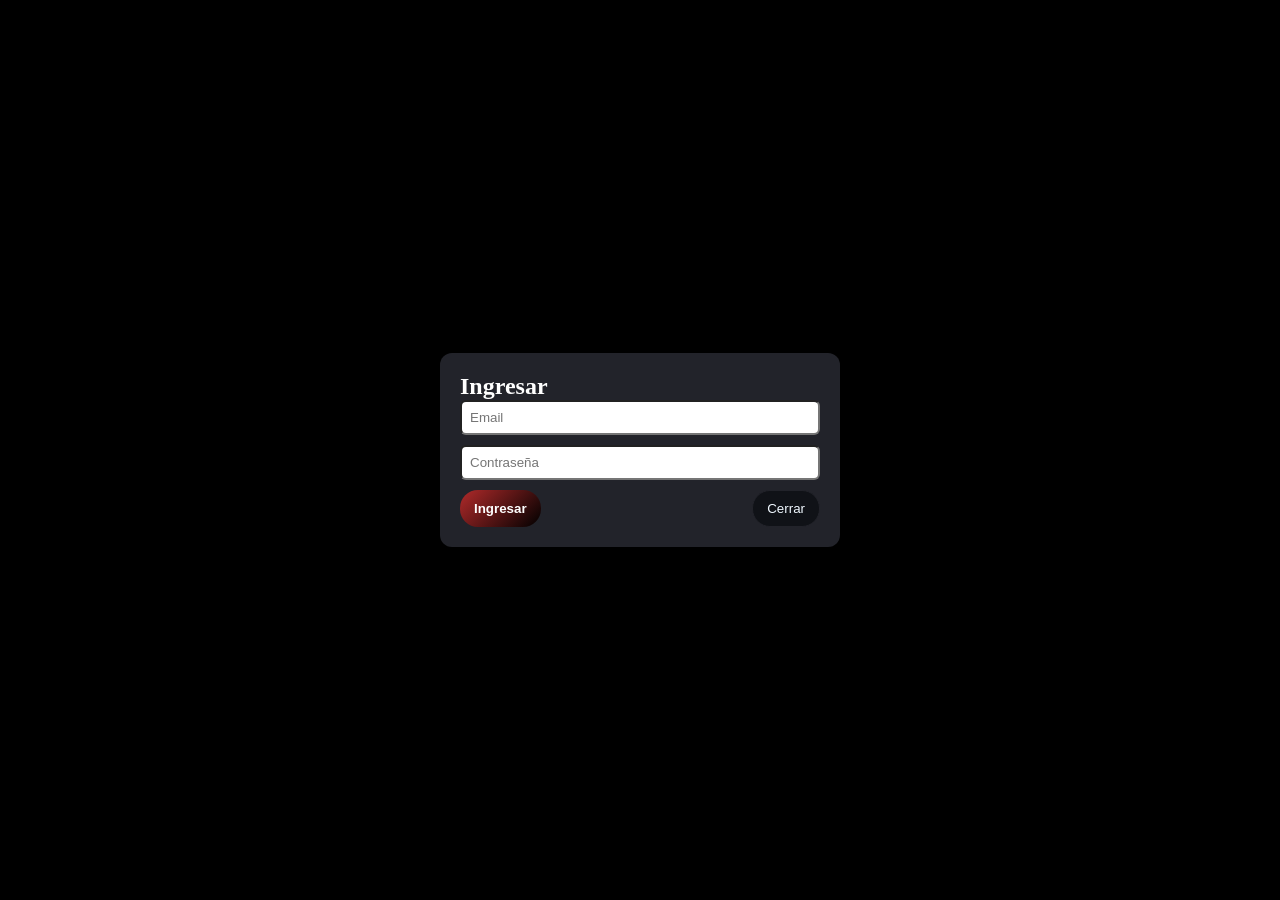
Login component › muestra mensaje de error si usuario/contraseña son incorrectos
In the field with placeholder "Email": (640, 418) [460,400,820,435], type "wrong@example.com"
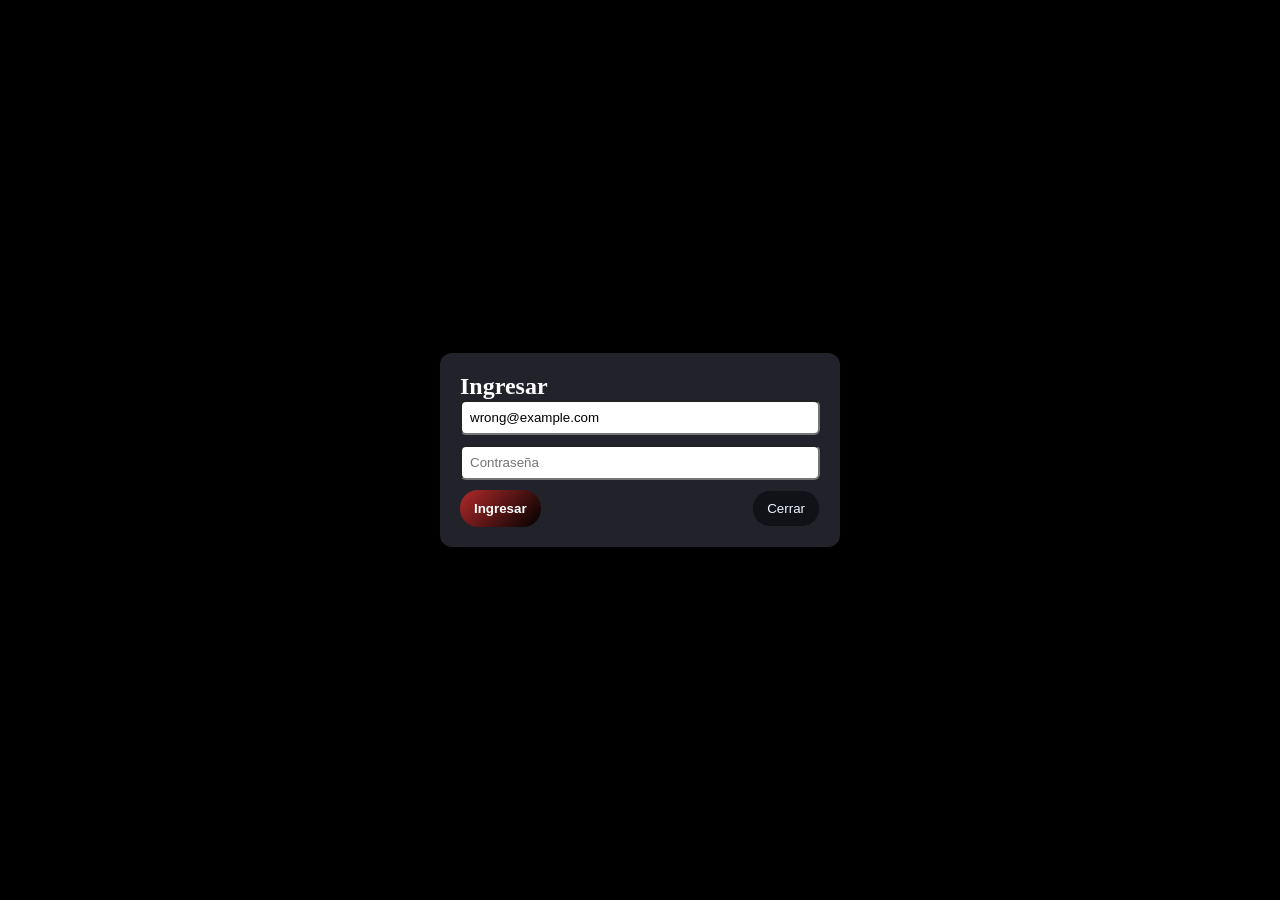
In the password field with placeholder "Contraseña": (640, 462) [460,445,820,480], type "wrongpass"
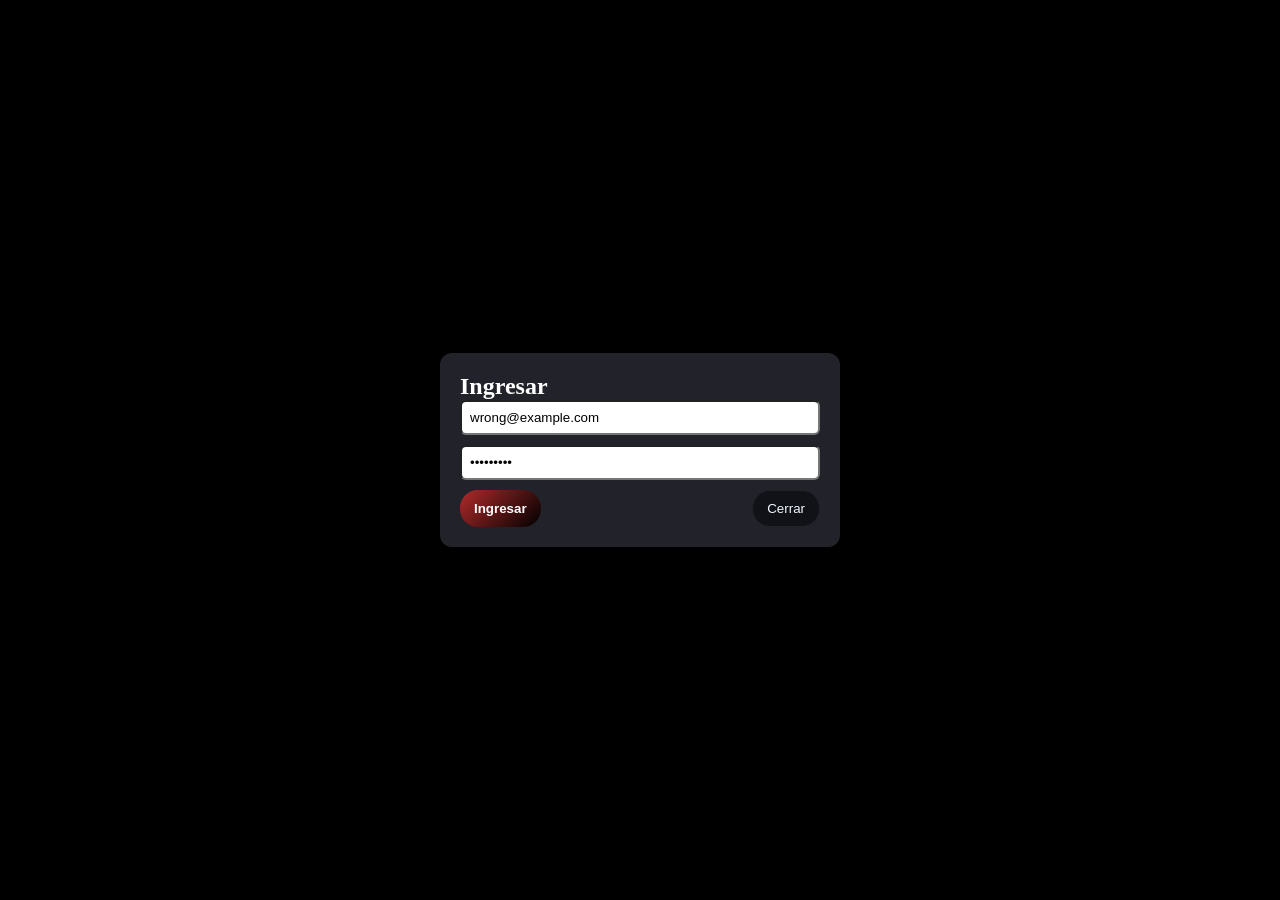
Click the button "Ingresar": (500, 508) [460,490,541,527]
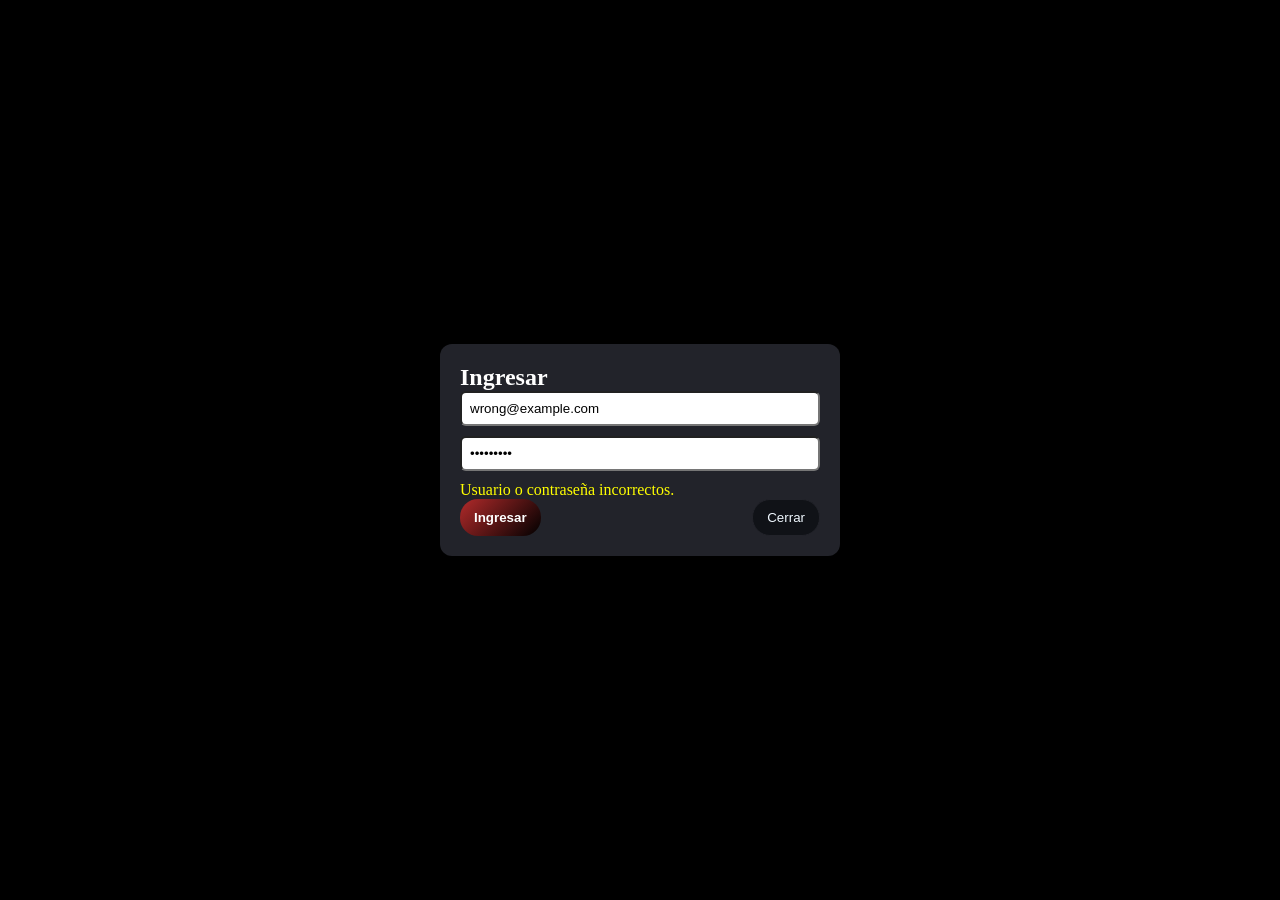
Now the text "Usuario o contraseña incorrectos." is shown, box [460,481,674,498]
